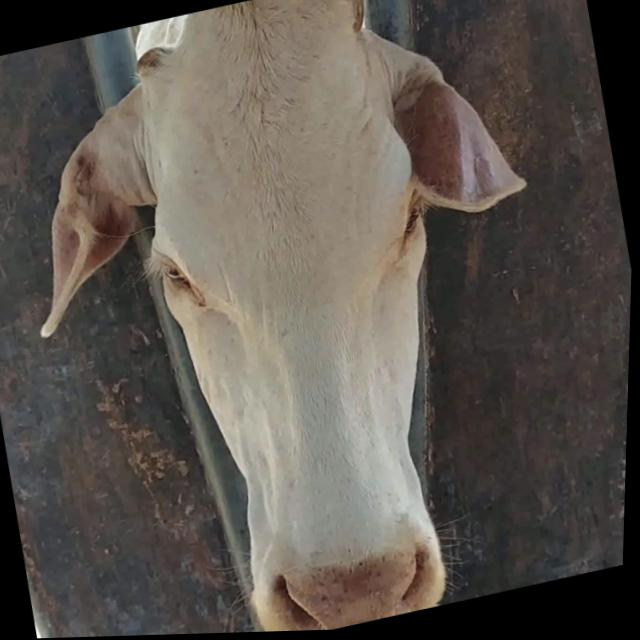cowFace: (96, 0, 499, 637)
